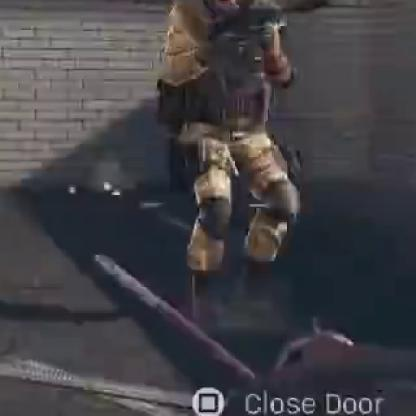enemy: (148, 1, 314, 273)
